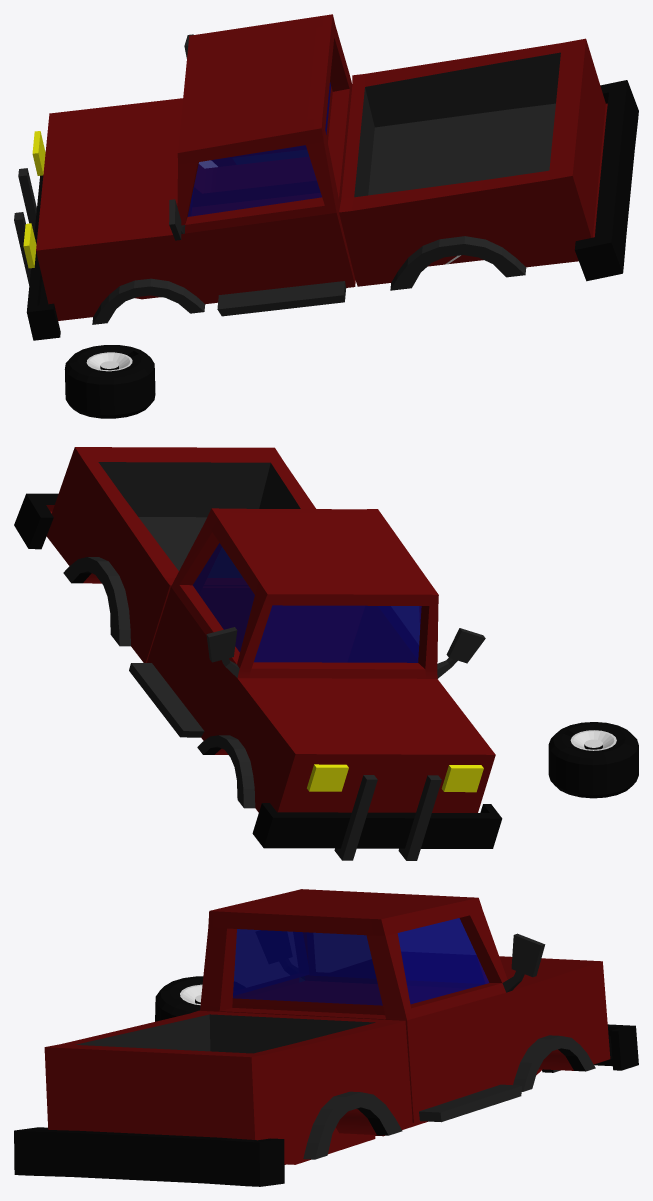
The model's file is Jeep.fbx.
3 views of the same model, one above another, from view 1: azimuth 30°, elevation 25°; view 2: azimuth 150°, elevation 25°; view 3: azimuth 270°, elevation 25° (orthographic). The views are drawn at different scales.
Visible parts, largest first — view 1: piece_truck:polySurface436; view 2: piece_truck:polySurface436; view 3: piece_truck:polySurface436.
Part boxes in pixels (x1,y1,x2,y2): piece_truck:polySurface436: (14,14,638,418); piece_truck:polySurface436: (14,447,638,860); piece_truck:polySurface436: (14,889,638,1186).
Bounding box in the file's own units: 7.31 × 3.09 × 6.01.
